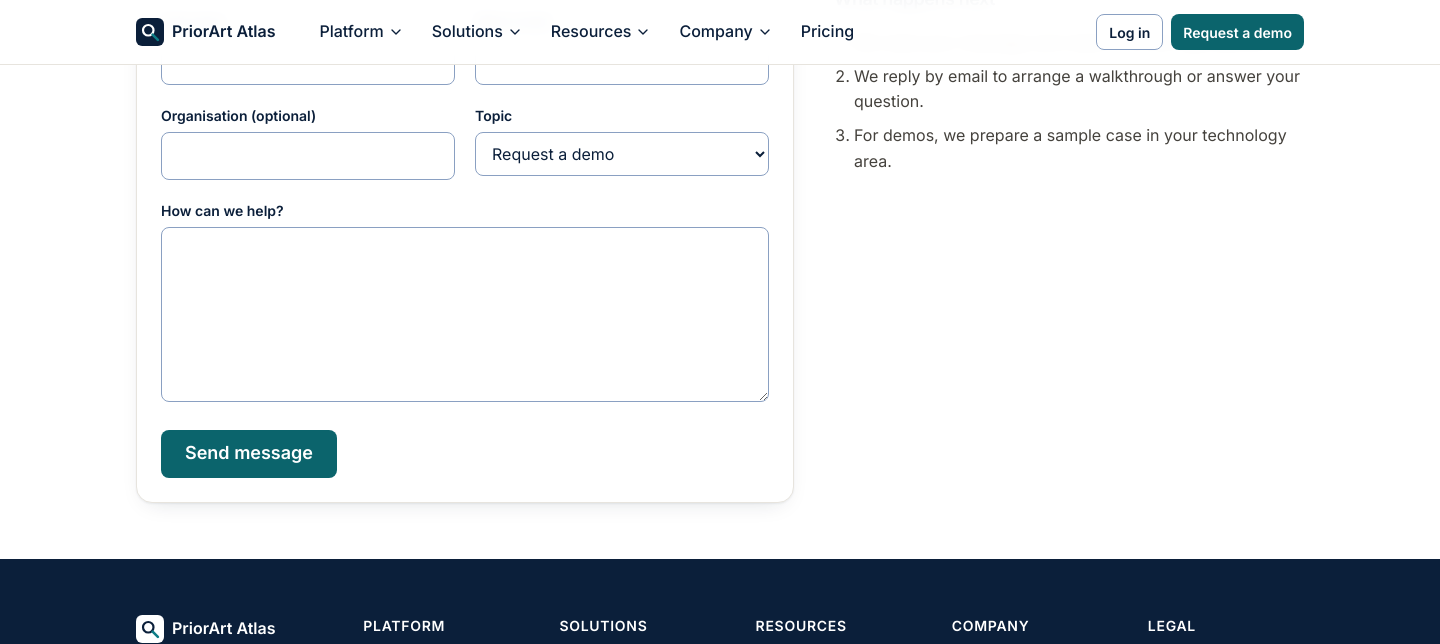
Test case: contact form › validates before sending anything
(page scrolled)
Click the button "Send message".
click(249, 454)  # box [161,430,337,478]
(page scrolled)
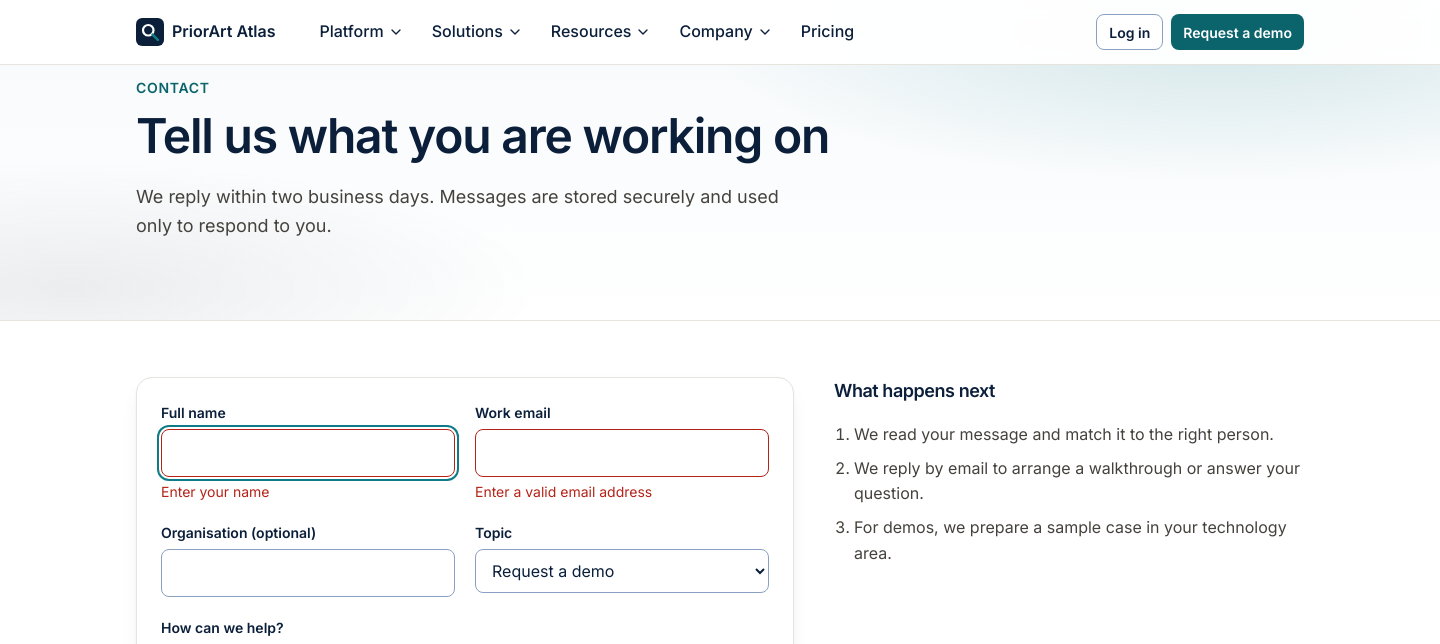
expect the text "Enter your name" is shown: met, box [161,483,270,500]
expect the text "Enter a valid email address" is shown: met, box [475,483,652,500]
